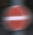No entry: (5, 5, 28, 30)
